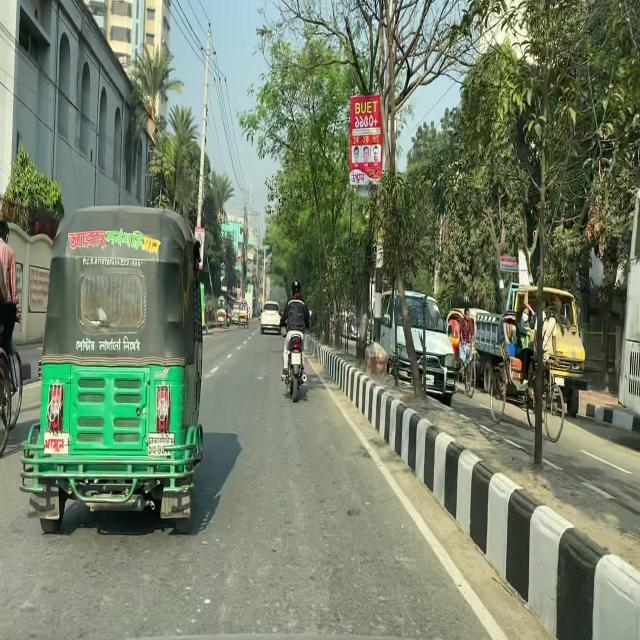car: (368, 289, 460, 418), (260, 300, 282, 336)
motorbike: (278, 308, 313, 405)
